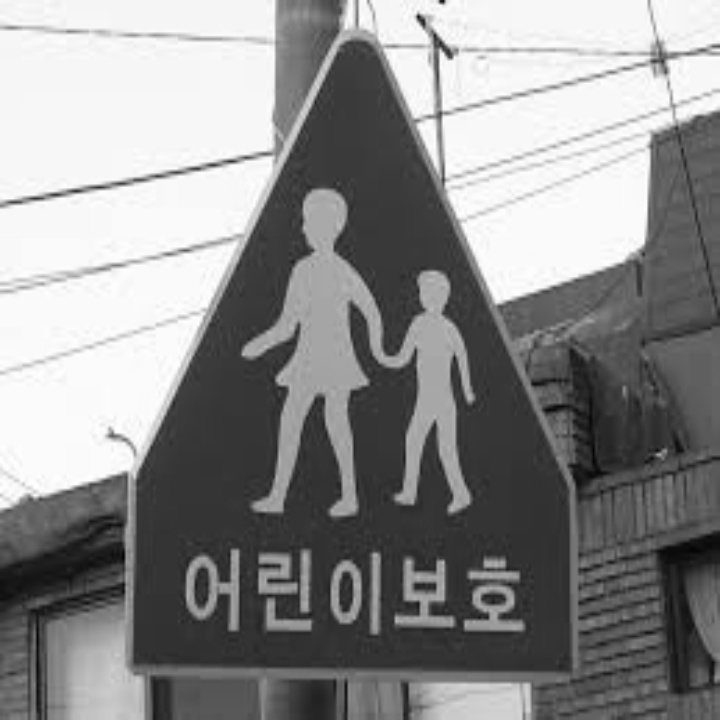child: (197, 149, 511, 515)
